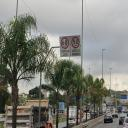speed_limit_50: (70, 36, 80, 56)
speed_limit_60: (60, 37, 70, 56)
